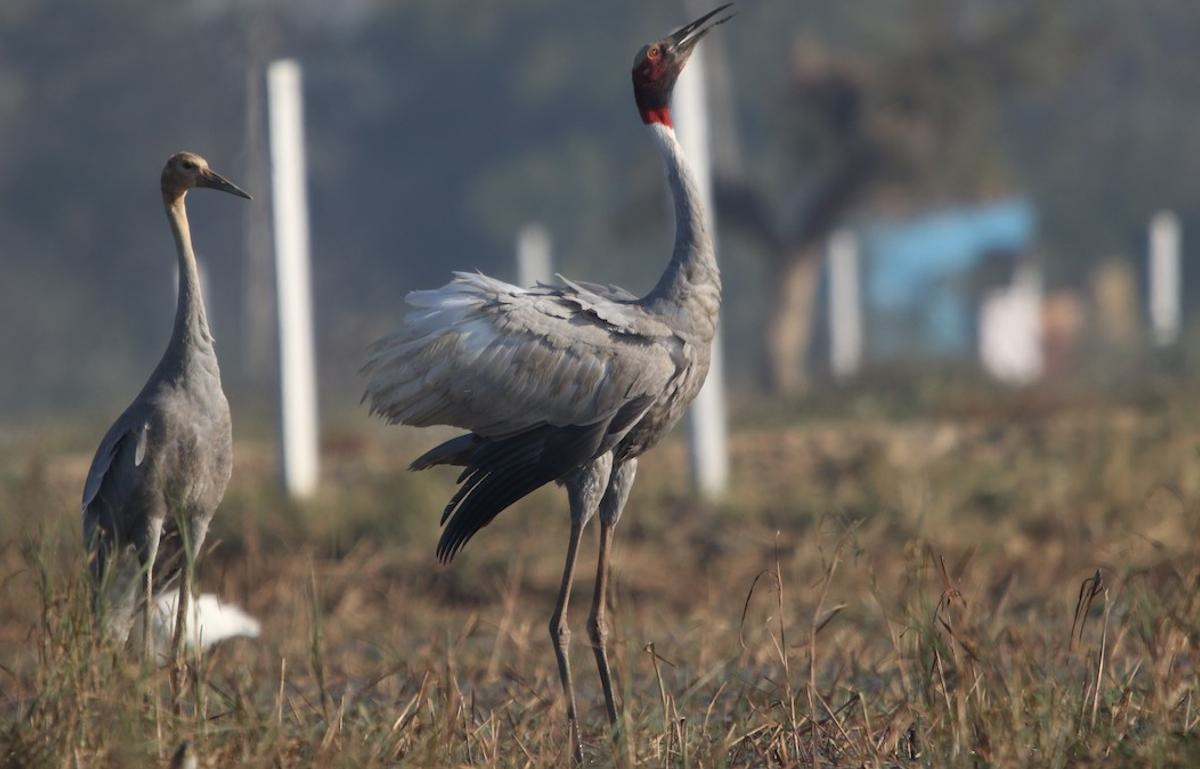crane: (433, 9, 772, 749), (86, 127, 268, 769)
